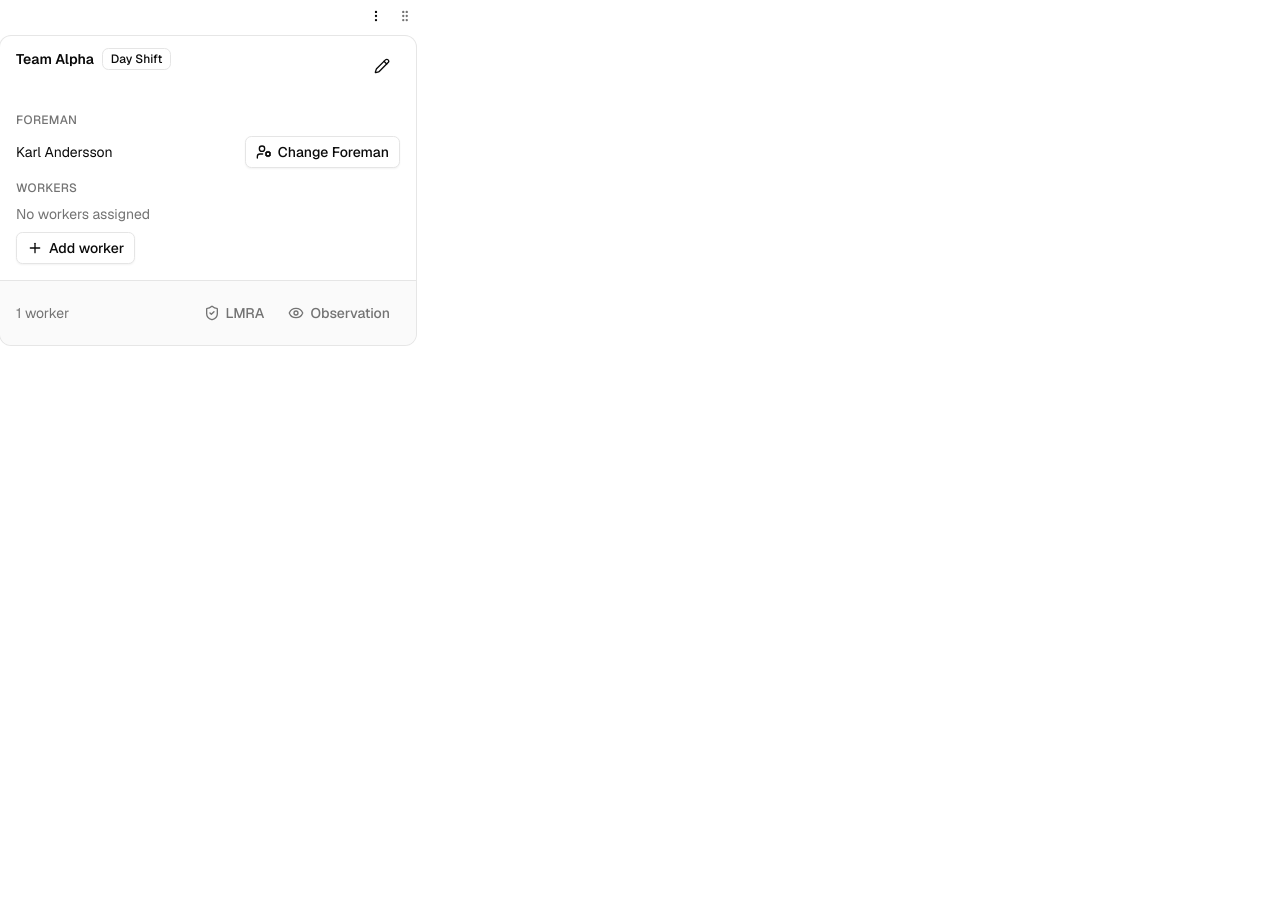
DailyTeamsGrid — pencil click interaction (item 1) › opens the Edit Team dialog when the pencil button is clicked
Expected: the text "Edit team" is not shown
Click the button named "Edit Team Alpha". click: (382, 66)
box: [364,48,400,84]
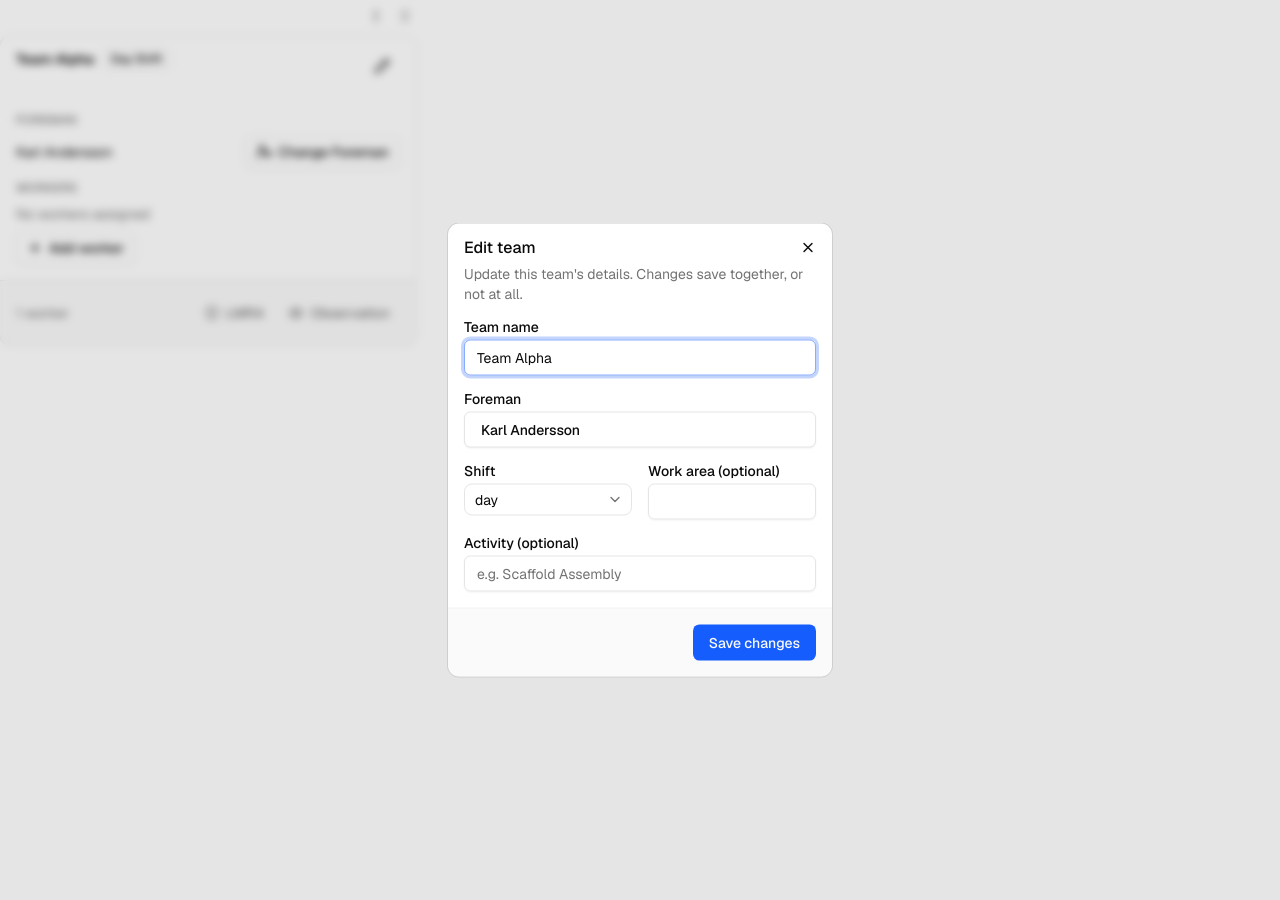
Now the heading "Edit team" is shown, box [464,236,536,258]
